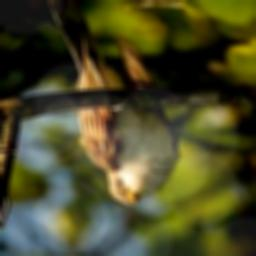Cuckoo: (47, 0, 179, 205)
